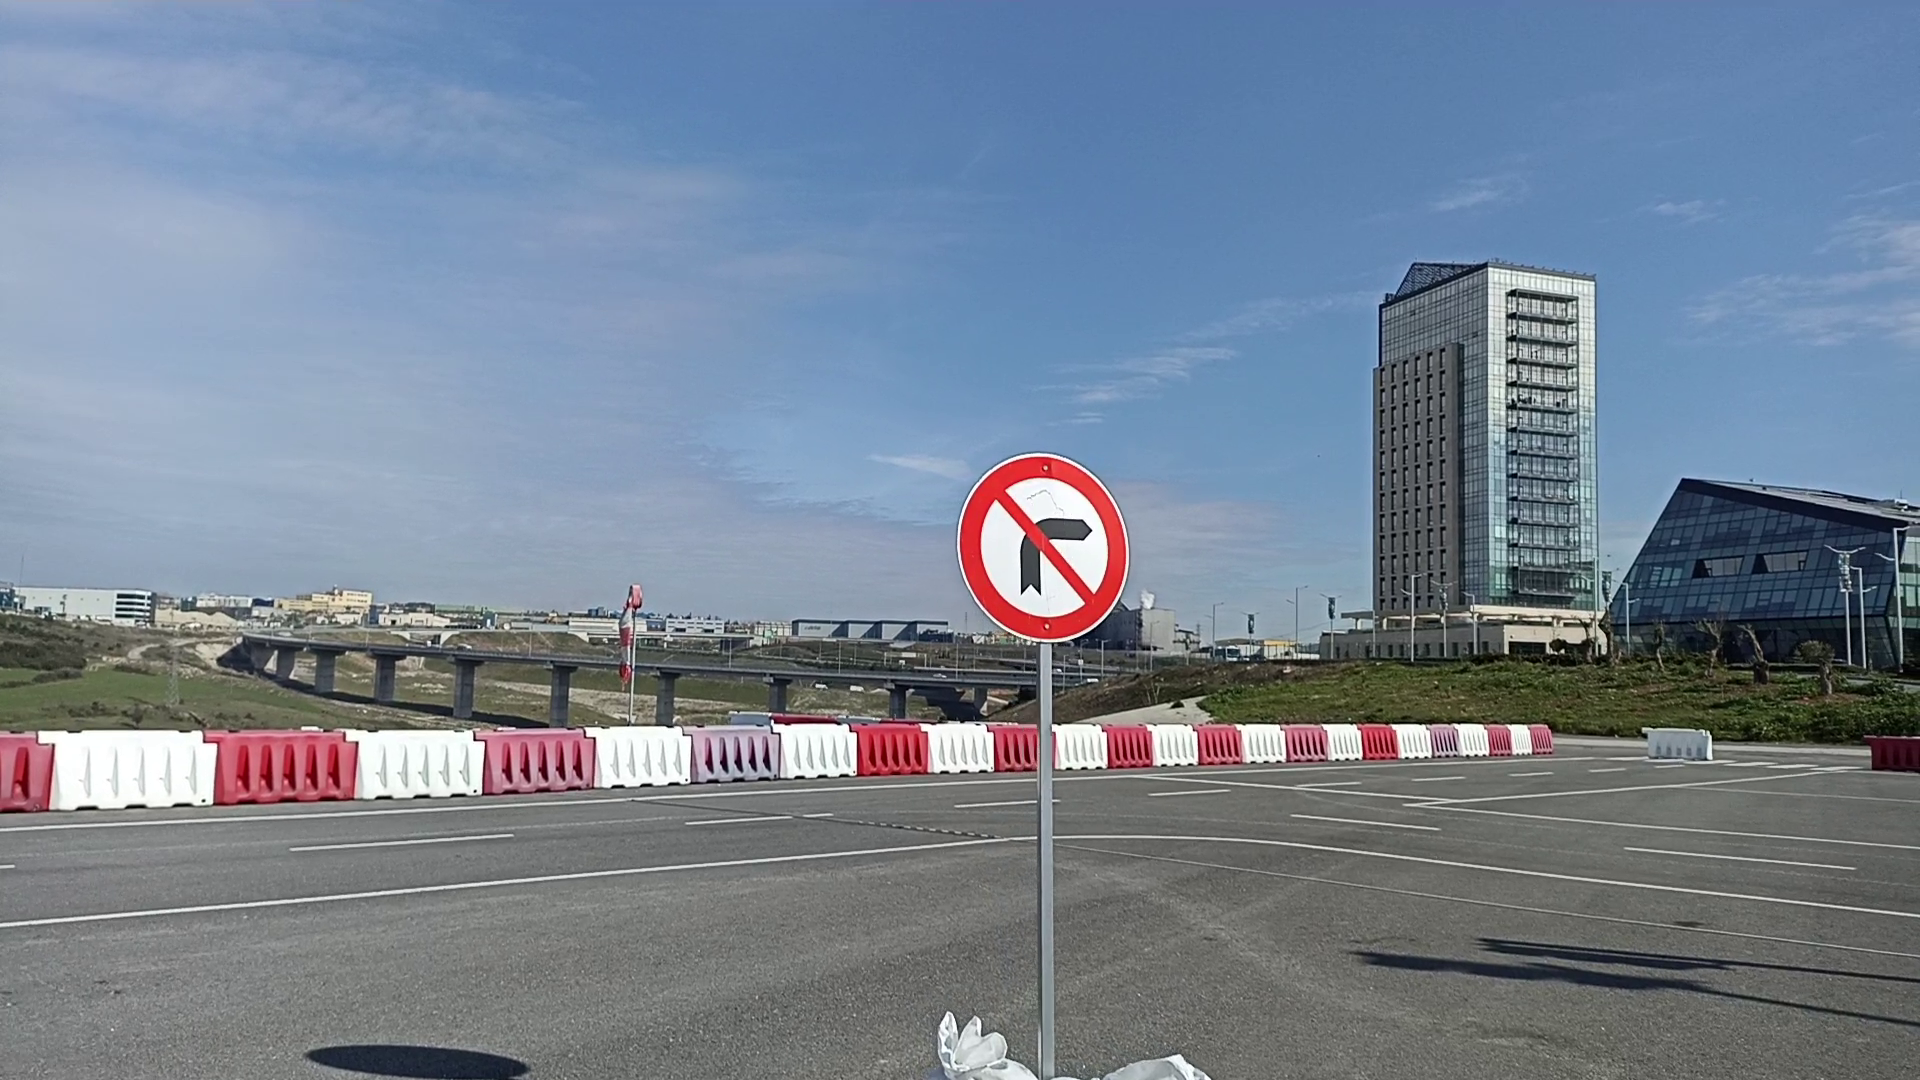noleftturn: (955, 451, 1130, 646)
